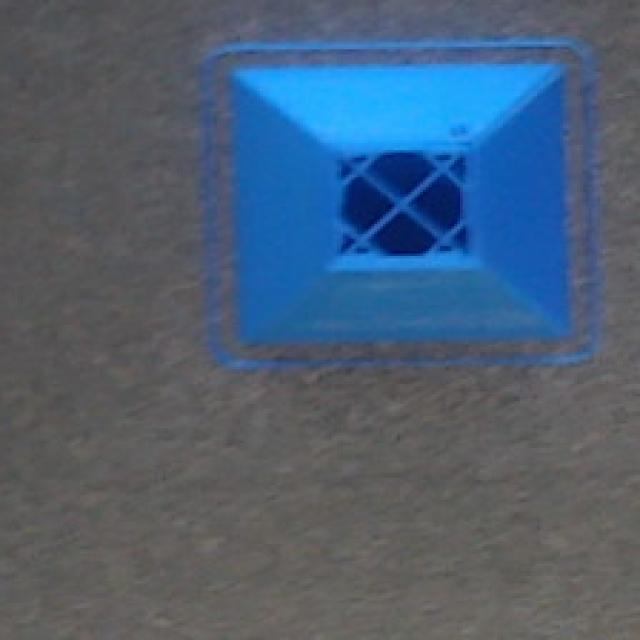mistake: (238, 68, 582, 344)
